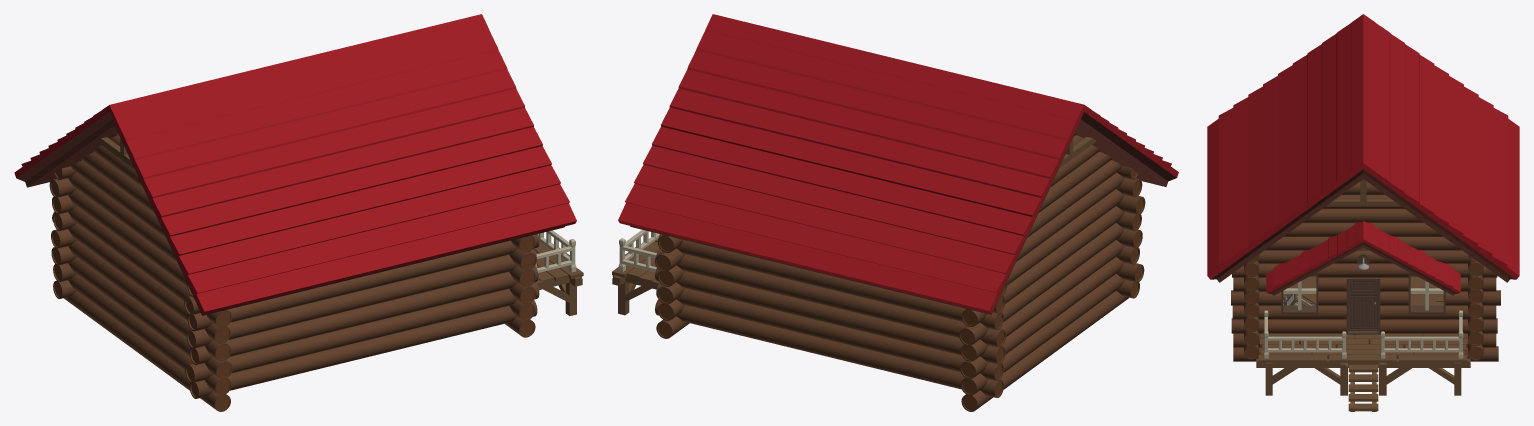
File: domek.fbx
The picture shows the model from 3 angles, left to right: view 1: azimuth 30°, elevation 25°; view 2: azimuth 150°, elevation 25°; view 3: azimuth 270°, elevation 25°; orthographic projection. The views are drawn at different scales.
Parts seen in each view (by area): view 1: Cube, Cylinder, Cylinder.004, Cylinder.001, Cube.005, Cube.006, Cube.004; view 2: Cube, Cylinder.001, Cylinder.004, Cylinder, Cube.005, Cube.006, Cube.004; view 3: Cube, Cylinder.004, Cube.008, Cube.004, Cube.006, Cube.005, doors, Cylinder.001, Cylinder, Cube.002, Cube.007, Cube.001 (+2 smaller).
Part boxes in pixels (box(x1,y1,x2,y2)): Cube: box(14, 14, 576, 315); Cylinder: box(184, 234, 539, 398); Cylinder.004: box(52, 133, 536, 411); Cylinder.001: box(49, 166, 76, 298); Cube.005: box(535, 230, 576, 272); Cube.006: box(538, 276, 582, 315); Cube.004: box(533, 241, 583, 286); Cube: box(618, 14, 1178, 314); Cylinder.001: box(655, 234, 1007, 397); Cylinder.004: box(655, 132, 1128, 411); Cylinder: box(1116, 165, 1145, 298); Cube.005: box(618, 229, 659, 271); Cube.006: box(612, 275, 657, 315); Cube.004: box(612, 238, 659, 285); Cube: box(1207, 14, 1519, 282); Cylinder.004: box(1231, 181, 1500, 361); Cube.008: box(1266, 221, 1460, 295); Cube.004: box(1258, 333, 1467, 362); Cube.006: box(1256, 358, 1470, 411); Cube.005: box(1263, 310, 1463, 358); doors: box(1348, 280, 1378, 330); Cylinder.001: box(1468, 255, 1483, 360); Cylinder: box(1244, 254, 1259, 359); Cube.002: box(1281, 274, 1445, 313); Cube.007: box(1348, 364, 1378, 411); Cube.001: box(1286, 276, 1443, 305).
Bounding box in the file's own units: 5607 × 3122 × 4051.
